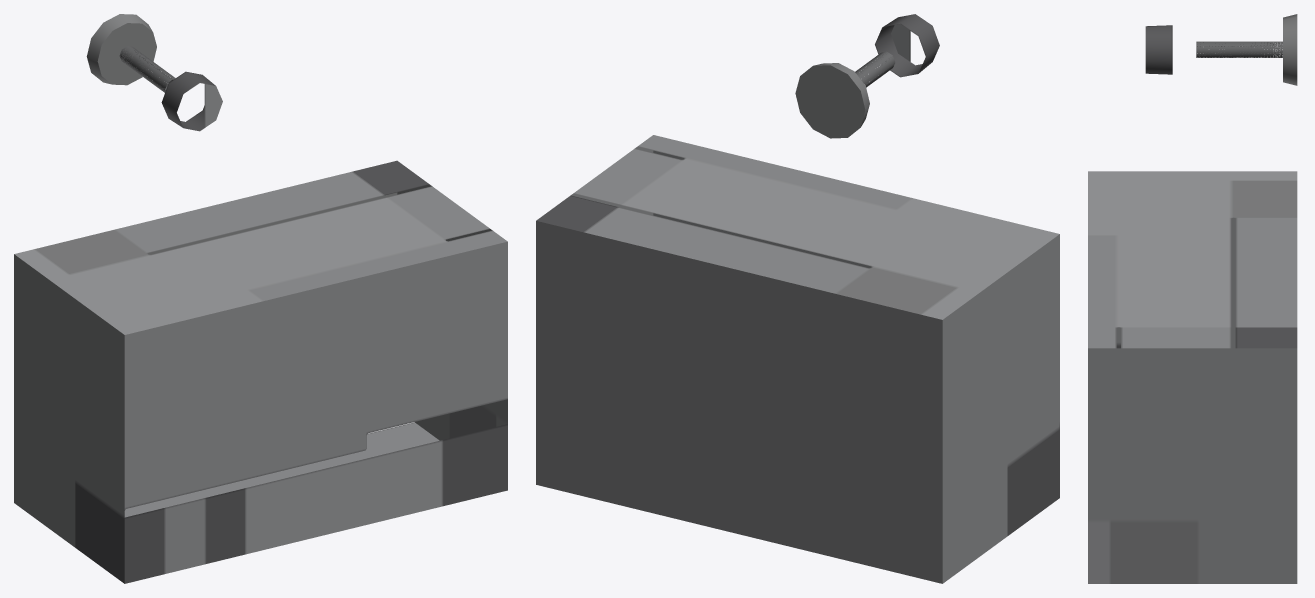
3 renders of one model, left to right at view 1: azimuth 30°, elevation 25°; view 2: azimuth 150°, elevation 25°; view 3: azimuth 270°, elevation 25°, orthographic. The views are drawn at different scales.
Bounding box in the file's own units: 0.58 × 0.67 × 0.2948.
